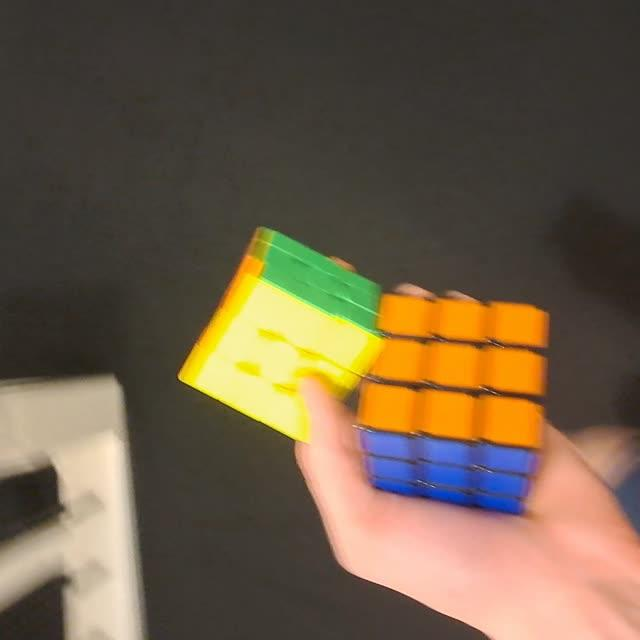rubix_cube: (172, 224, 387, 453), (355, 281, 554, 527)
